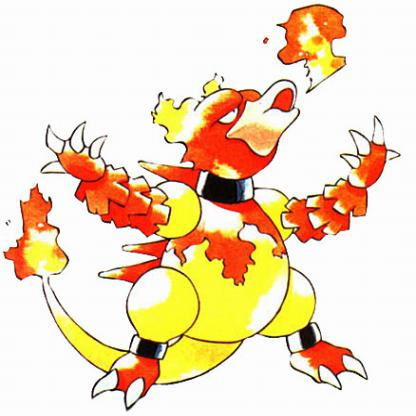Magmar: (1, 20, 405, 416)
